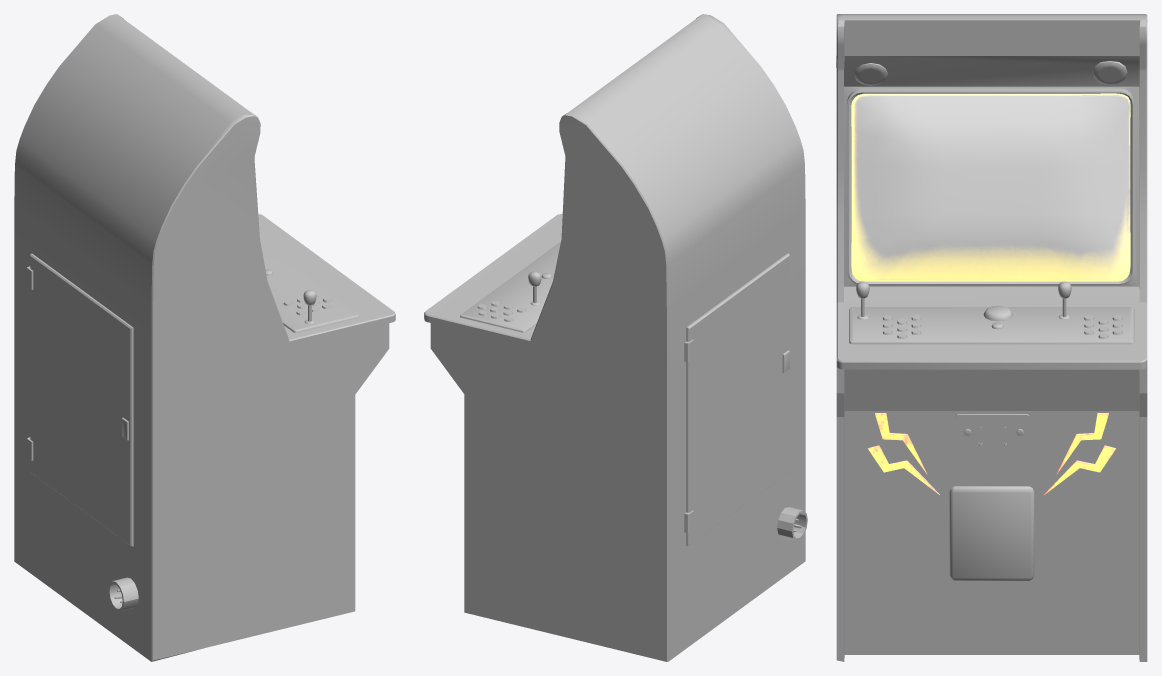
The picture shows the model from 3 angles, left to right: view 1: azimuth 30°, elevation 25°; view 2: azimuth 150°, elevation 25°; view 3: azimuth 270°, elevation 25°; orthographic projection. The views are drawn at different scales.
Visible parts, largest first — view 1: lowpolyok:004__desktop_baseLP_Cube:069:005.002; view 2: lowpolyok:004__desktop_baseLP_Cube:069:005.002; view 3: lowpolyok:004__desktop_baseLP_Cube:069:005.002.
Boxes of the visible parts, bbox=[...] form: lowpolyok:004__desktop_baseLP_Cube:069:005.002: bbox=[14, 14, 395, 661]; lowpolyok:004__desktop_baseLP_Cube:069:005.002: bbox=[424, 14, 807, 661]; lowpolyok:004__desktop_baseLP_Cube:069:005.002: bbox=[836, 14, 1147, 661].
Size of the model in its own units: 119 by 227 by 109.
